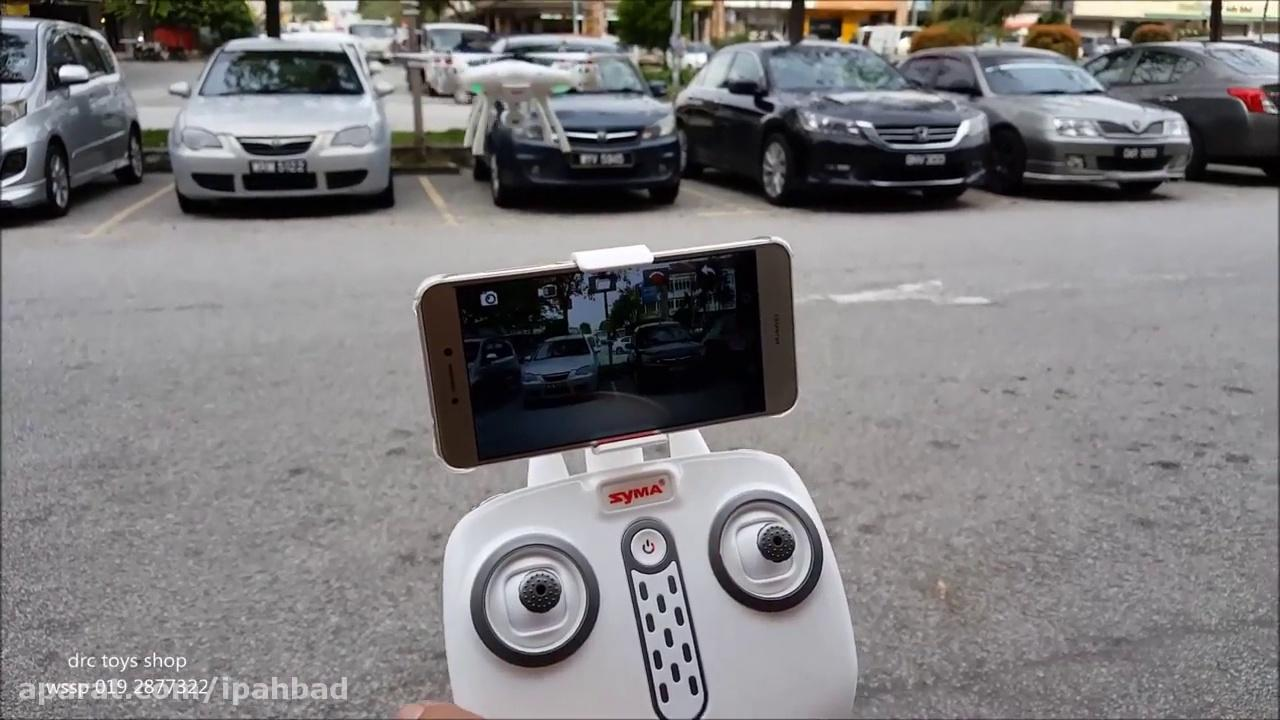drone: (391, 45, 636, 153)
